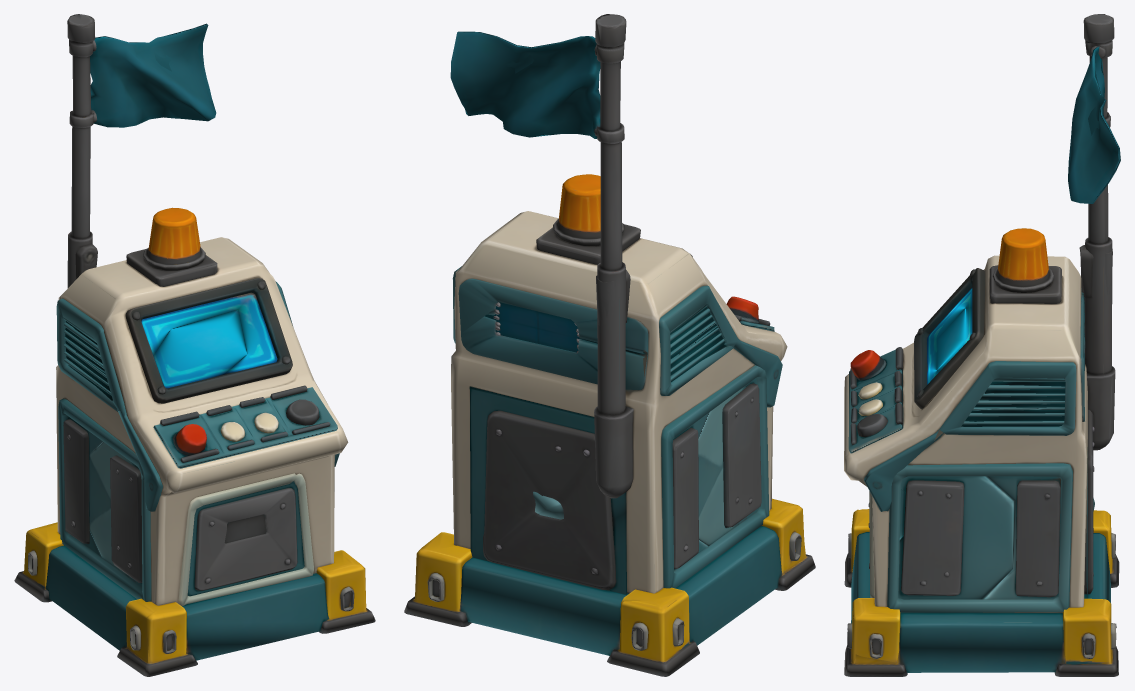
File: timber-capture-terminal.glb
3 renders of one model, left to right at view 1: azimuth 30°, elevation 25°; view 2: azimuth 150°, elevation 25°; view 3: azimuth 270°, elevation 25°, orthographic. The views are drawn at different scales.
Visible parts, largest first — view 1: geometry_0; view 2: geometry_0; view 3: geometry_0.
Boxes of the visible parts, bbox=[...] form: geometry_0: bbox=[14, 14, 375, 676]; geometry_0: bbox=[404, 14, 815, 676]; geometry_0: bbox=[844, 14, 1120, 676].
Size of the model in its own units: 0.4395 by 1 by 0.44.
1 material, 1 textured.
